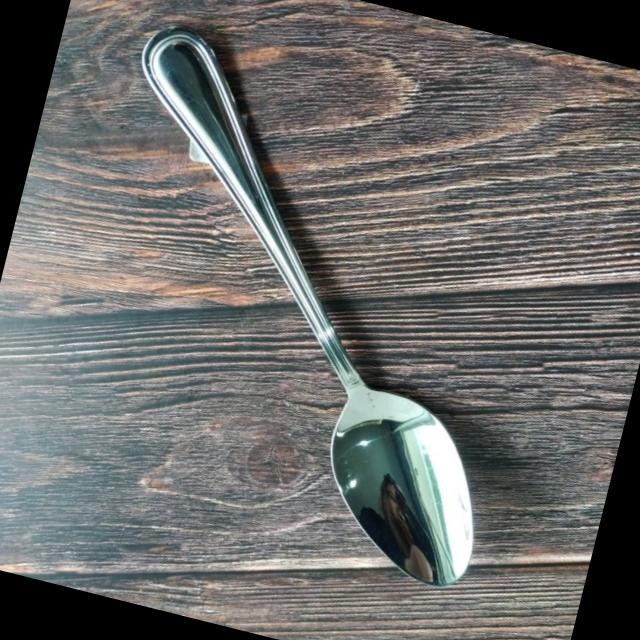spoon: (22, 0, 596, 600)
